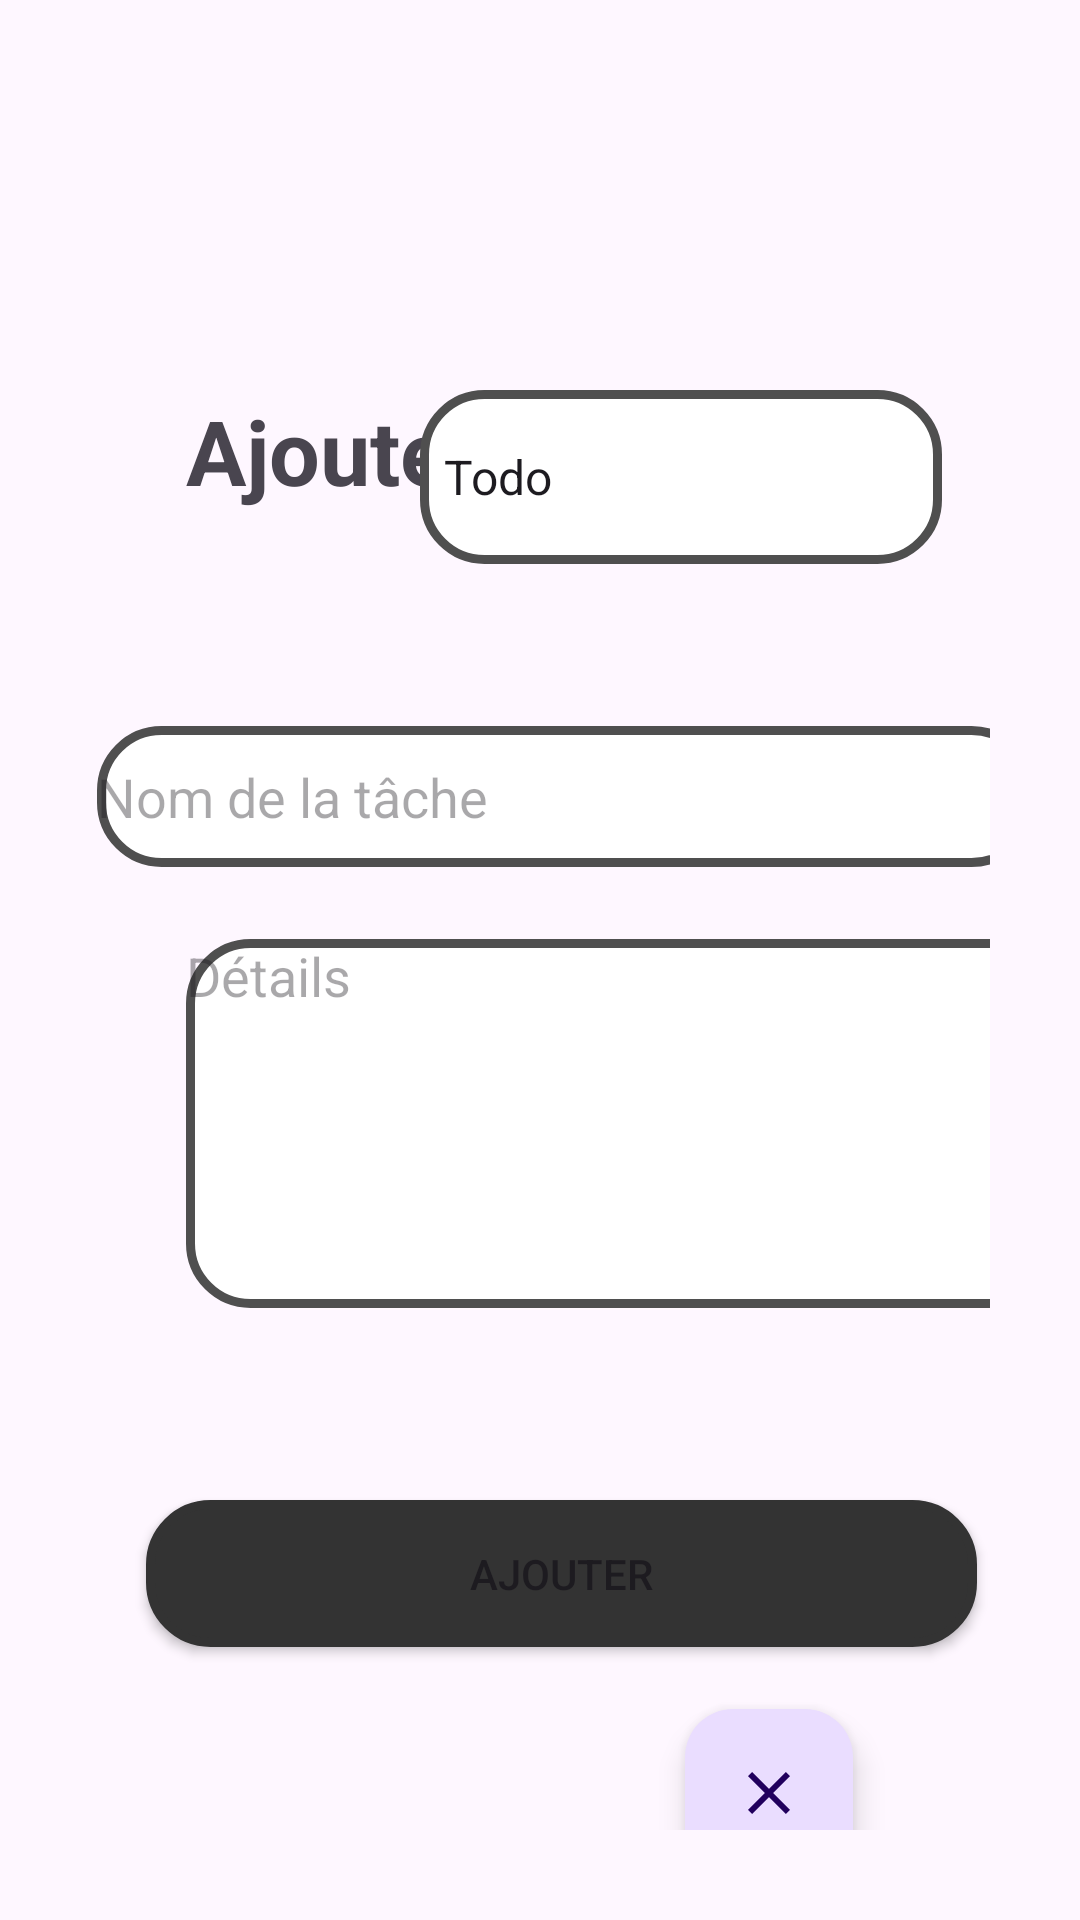

Screen size 1080 × 1920. Icon name, then its center in pixels as point (x, y):
close: point (769, 1769)
